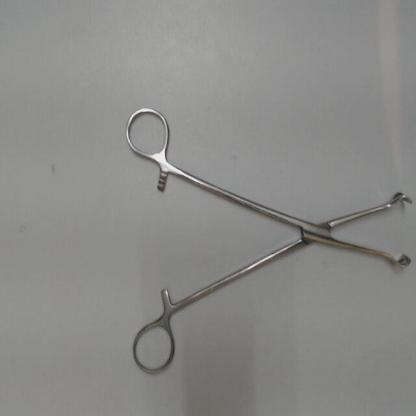8 Babcock Tissue Forceps: (121, 97, 415, 379)
